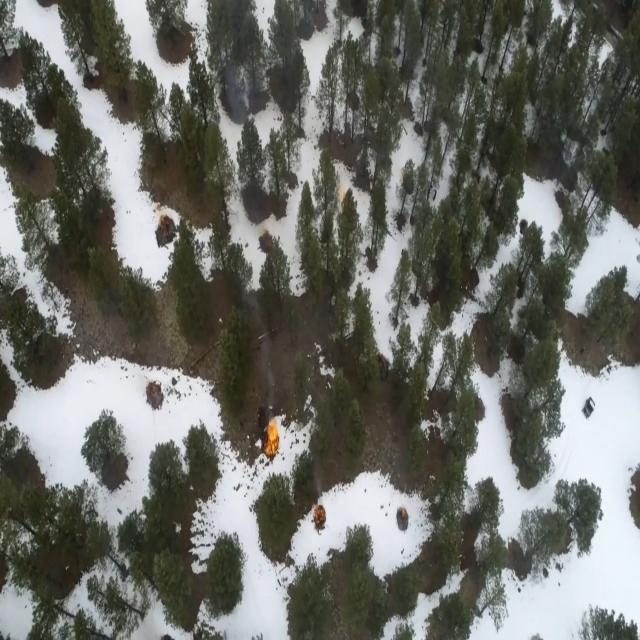Fire: (264, 418, 280, 457)
